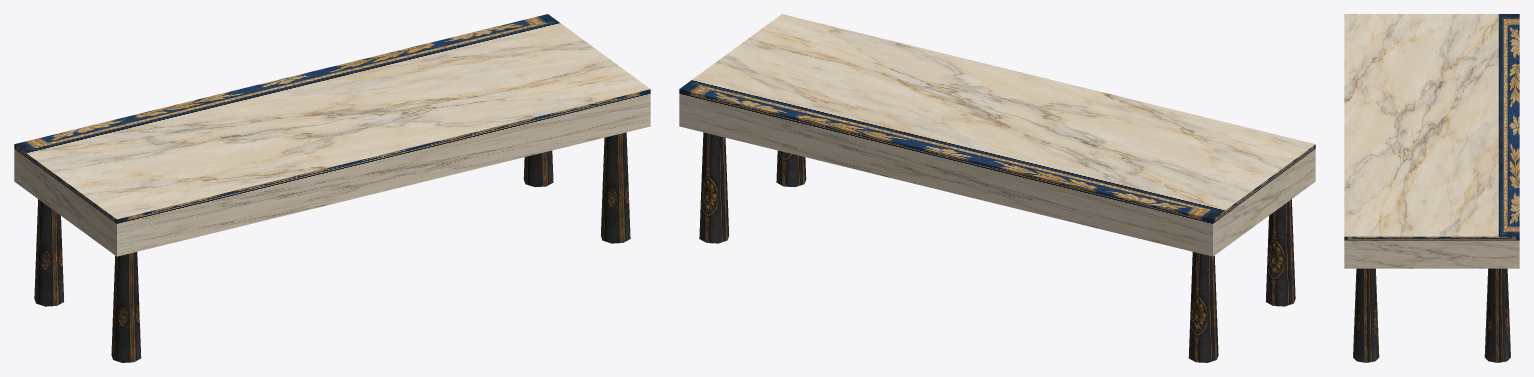
Rendered from bench.gltf.
3 renders of one model, left to right at view 1: azimuth 30°, elevation 25°; view 2: azimuth 150°, elevation 25°; view 3: azimuth 270°, elevation 25°, orthographic. The views are drawn at different scales.
Visible parts, largest first — view 1: kit:0:furniture:blue:, kit:0:furniture:mahogany:; view 2: kit:0:furniture:blue:, kit:0:furniture:mahogany:; view 3: kit:0:furniture:blue:, kit:0:furniture:mahogany:.
Part boxes in pixels (x1,y1,x2,y2): kit:0:furniture:blue:: [14, 14, 650, 256]; kit:0:furniture:mahogany:: [34, 132, 630, 362]; kit:0:furniture:blue:: [679, 14, 1315, 256]; kit:0:furniture:mahogany:: [699, 132, 1295, 362]; kit:0:furniture:blue:: [1344, 14, 1519, 268]; kit:0:furniture:mahogany:: [1353, 268, 1510, 362].
Size of the model in its own units: 1.8 by 0.49 by 0.6.
Materials: 2 (2 with a texture image).
